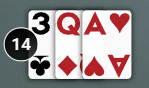3: (28, 9, 54, 37)
a: (82, 10, 108, 40)
q: (55, 9, 83, 39)
